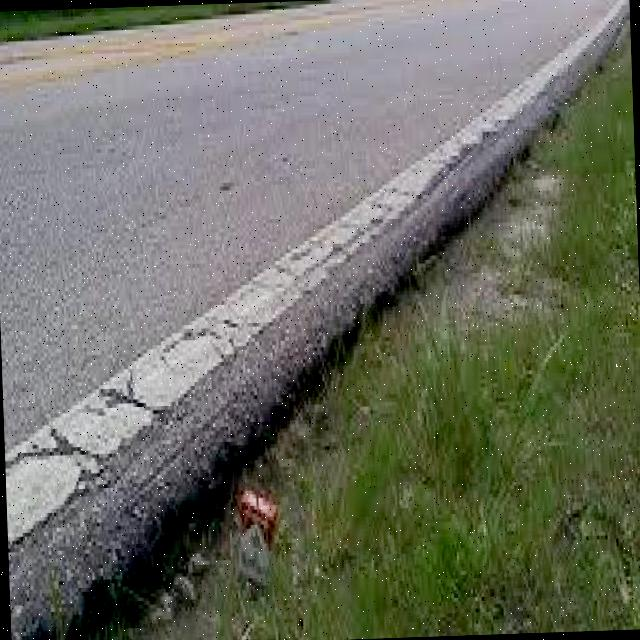curb: (134, 233, 352, 503), (2, 358, 168, 640), (359, 66, 555, 292), (569, 1, 626, 100)
